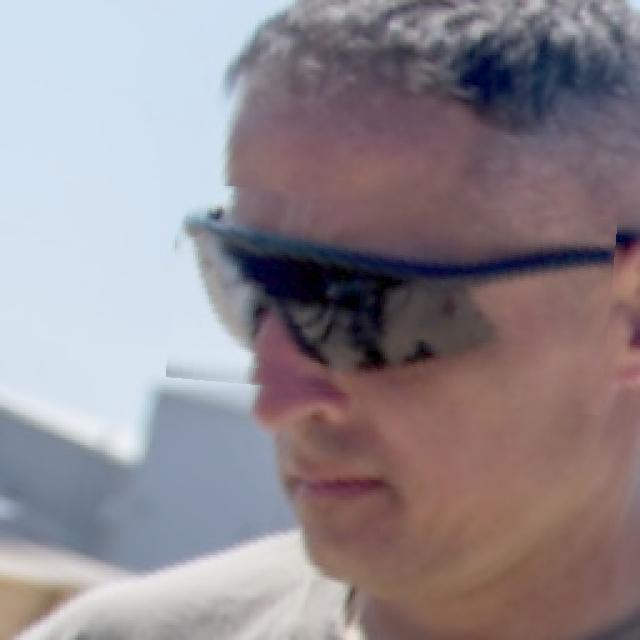glasses: (169, 192, 614, 406)
